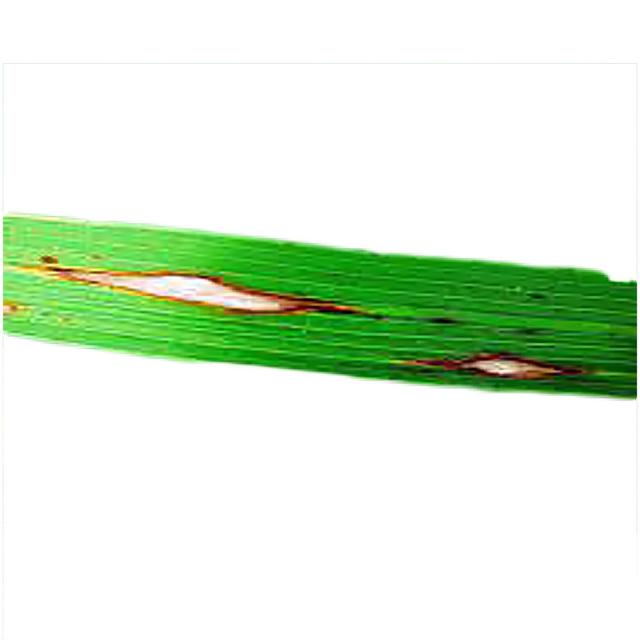Leaf blast: (0, 168, 640, 454)
